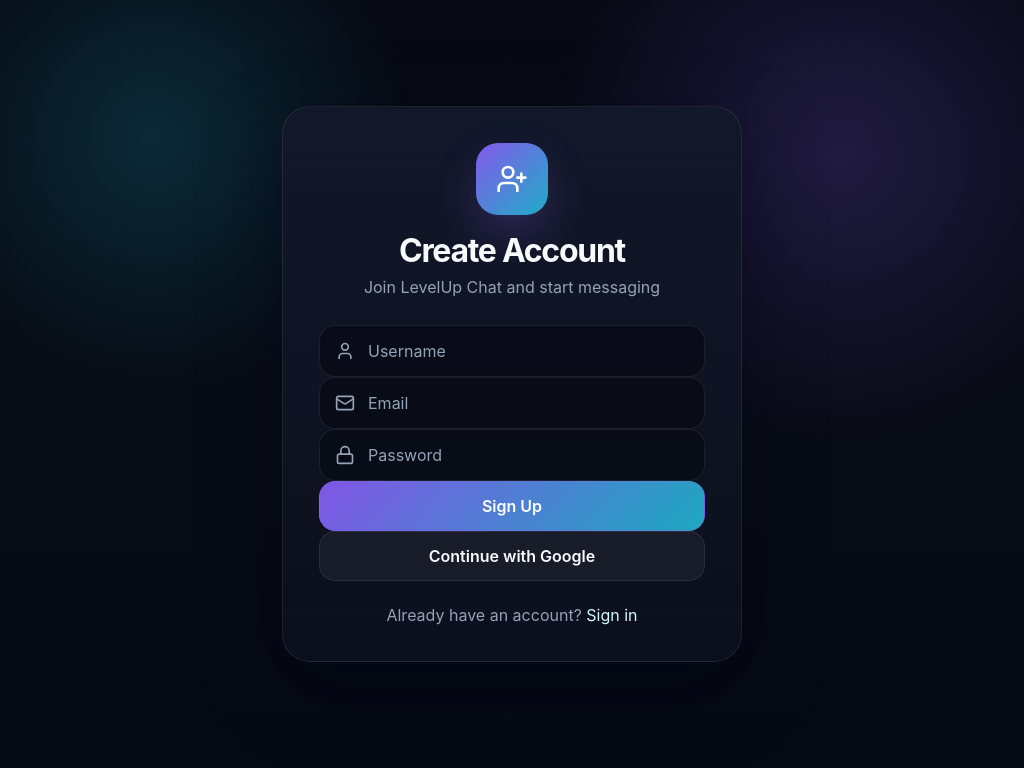
Test: Signup page › should show error if fields are empty on submit
The width and height of the screenshot is (1024, 768).
Step 1. Click the button "Sign Up" → point(512, 506), box [319,481,705,531]
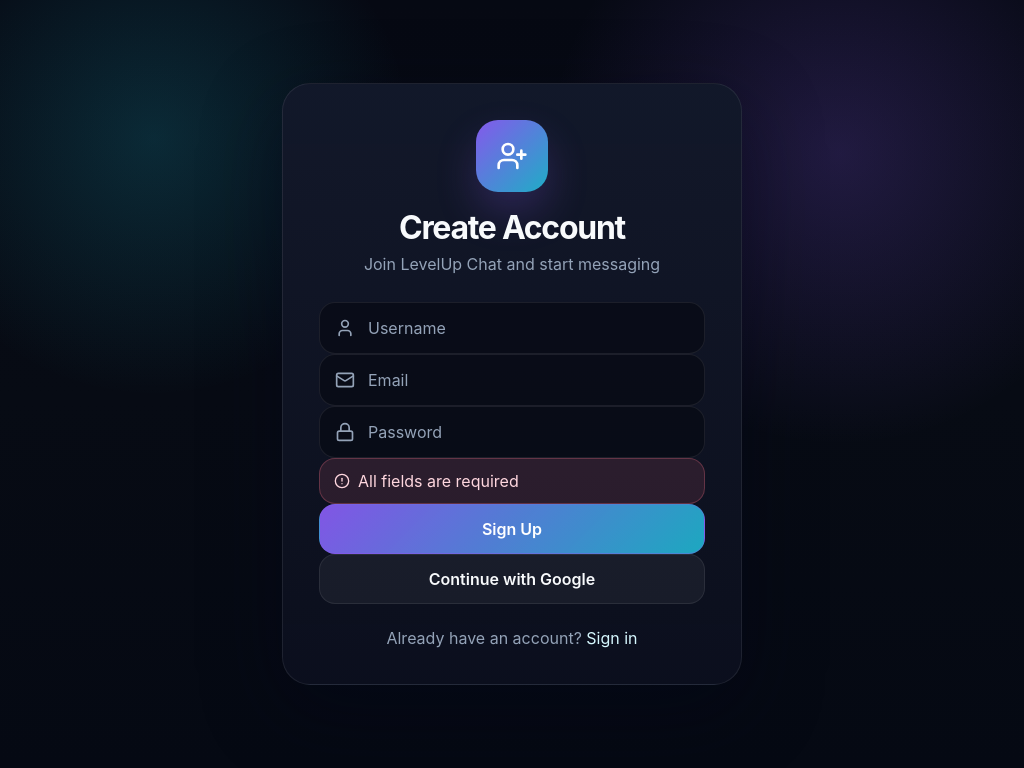
Check: the text "All fields are required" is shown, box [358,471,519,491]
